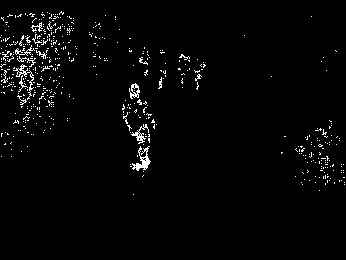person: (122, 83, 156, 173)
